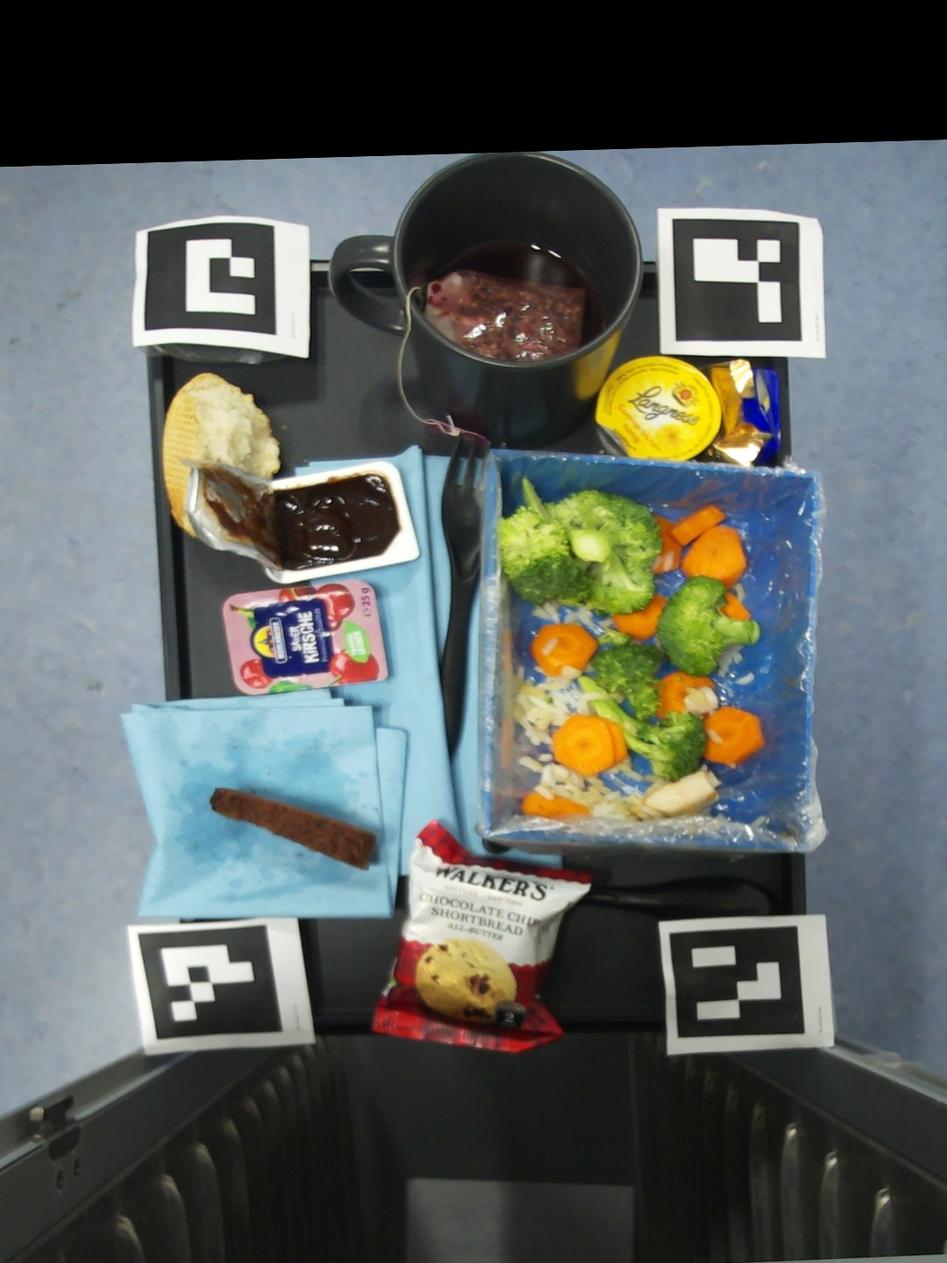bread_roll: (162, 373, 280, 537)
broccoli: (498, 477, 663, 616), (578, 627, 706, 780), (657, 575, 761, 676)
brownie: (211, 789, 376, 870)
butter: (701, 358, 781, 466)
carrots: (652, 506, 746, 589), (554, 713, 628, 777), (704, 706, 766, 766), (529, 625, 598, 677), (656, 672, 715, 719), (615, 594, 665, 639), (521, 792, 589, 817), (721, 593, 751, 620), (657, 561, 664, 574)
cherry_jam: (223, 579, 389, 691)
chicken: (646, 770, 717, 817)
cookie: (371, 818, 595, 1055)
honey: (593, 356, 721, 460)
plum_jam: (182, 459, 420, 584)
rice: (519, 753, 678, 819), (512, 666, 625, 752), (563, 604, 606, 635), (682, 686, 718, 719), (716, 645, 744, 677), (530, 599, 560, 623), (699, 764, 723, 789), (652, 552, 674, 574), (541, 637, 559, 656), (624, 719, 639, 736), (707, 729, 723, 744), (736, 673, 755, 685), (733, 584, 745, 602), (750, 815, 766, 828), (600, 617, 614, 629), (654, 638, 665, 653), (701, 806, 711, 816), (628, 639, 641, 645), (716, 813, 726, 819), (727, 764, 736, 769)
tea_cup: (329, 152, 644, 450)
